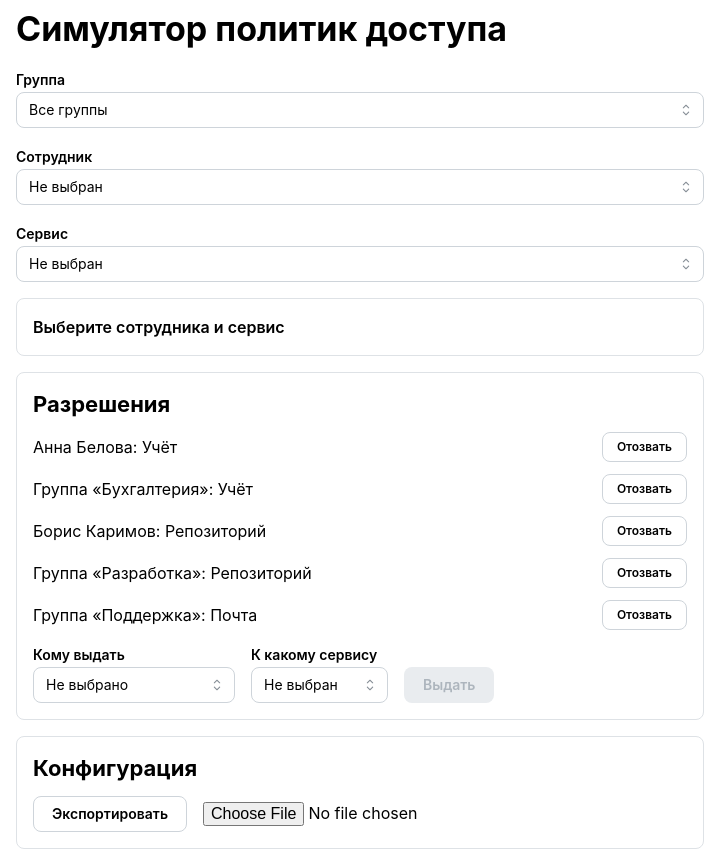
Scenario: экран расчёта доступа › показывает прямой и групповой источники вместе
This screenshot has width=721, height=863.
Select "Анна Белова" in the dropdown with test id "user-select" at (360, 187), box [16, 169, 704, 205]
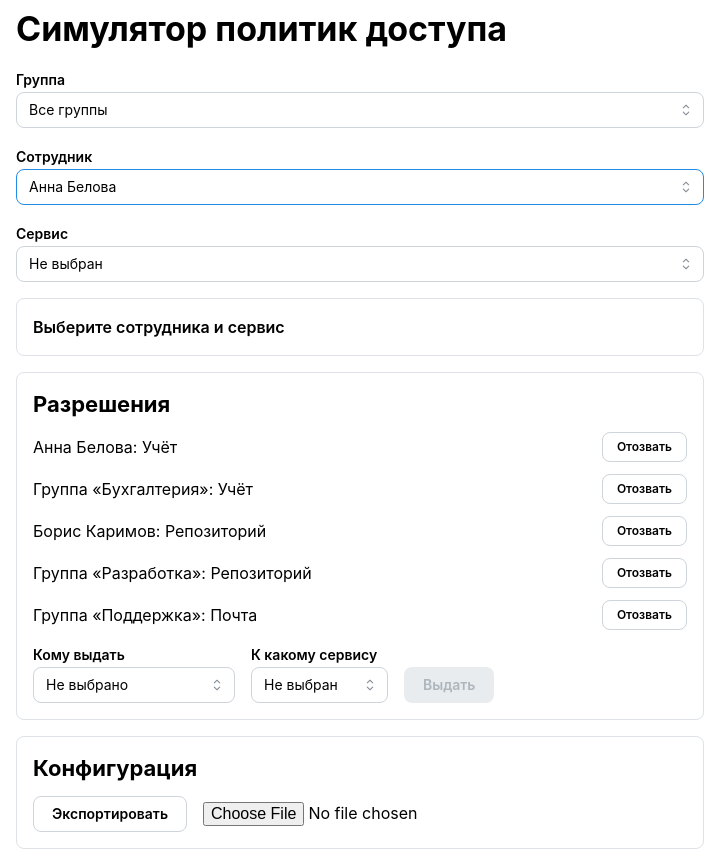
Select "Учёт" in the dropdown with test id "service-select" at (360, 264), box [16, 246, 704, 282]
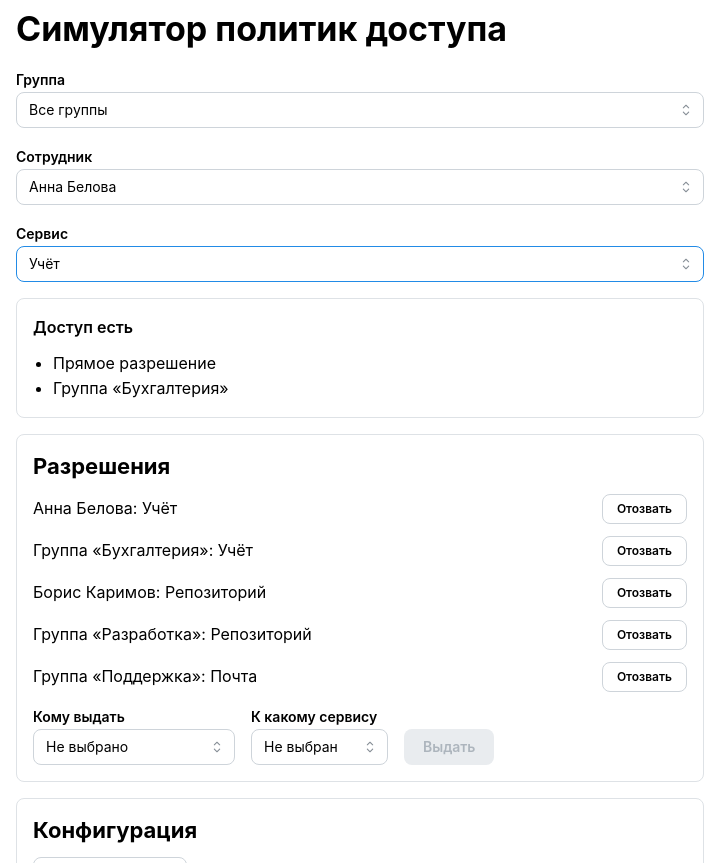
expect the list with test id "access-sources" shows "Прямое разрешение": met, box [53, 353, 216, 373]
expect the list with test id "access-sources" shows "Группа «Бухгалтерия»": met, box [53, 378, 229, 398]
